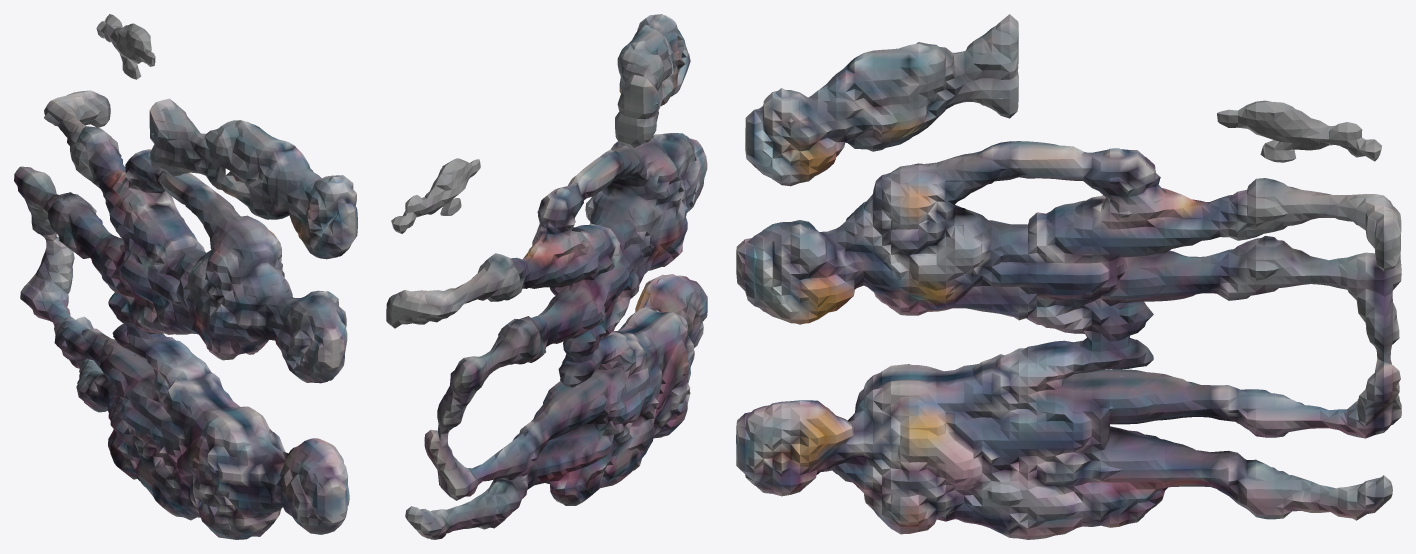
The model's file is future_scholar_m_0.glb.
3 views of the same model, side by side, from view 1: azimuth 30°, elevation 25°; view 2: azimuth 150°, elevation 25°; view 3: azimuth 270°, elevation 25° (orthographic). The views are drawn at different scales.
Visible parts, largest first — view 1: world; view 2: world; view 3: world.
Boxes of the visible parts, bbox=[...] form: world: bbox=[14, 14, 357, 539]; world: bbox=[386, 14, 707, 539]; world: bbox=[736, 14, 1401, 539].
Bounding box in the file's own units: 0.2475 × 0.8274 × 0.9995.
